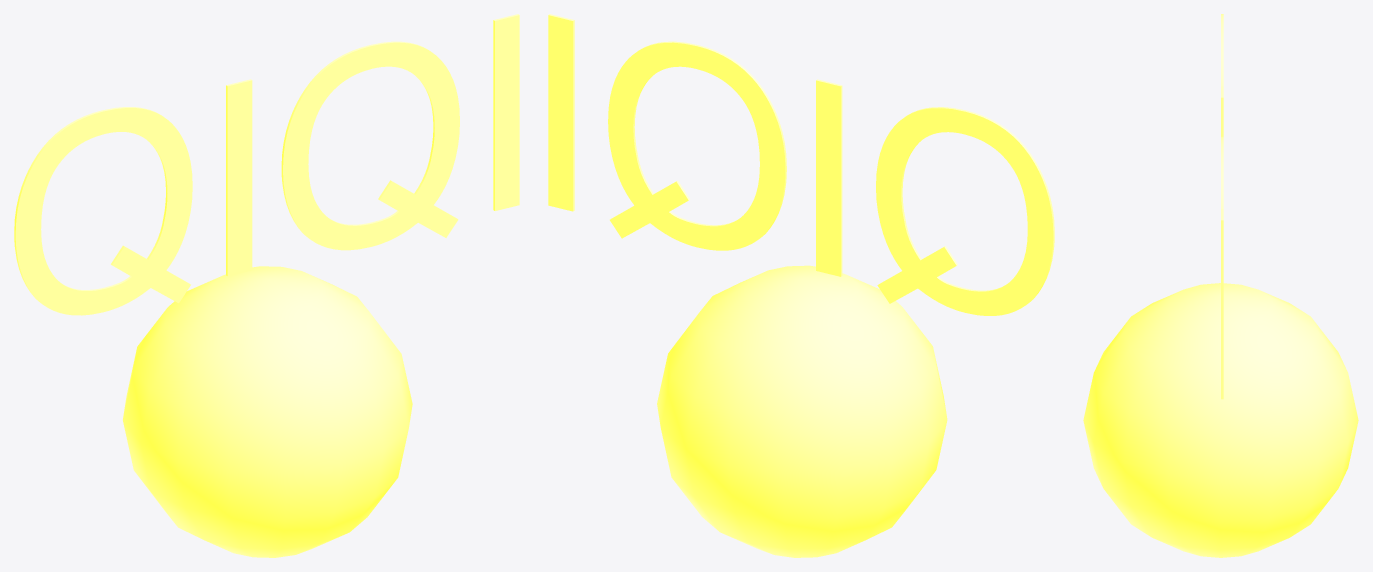
File: asset.gltf
The picture shows the model from 3 angles, left to right: view 1: azimuth 30°, elevation 25°; view 2: azimuth 150°, elevation 25°; view 3: azimuth 270°, elevation 25°; orthographic projection. The views are drawn at different scales.
Parts seen in each view (by area): view 1: Sphere, Q (×2), I (×2); view 2: Sphere, Q (×2), I (×2); view 3: Sphere, I.
Part boxes in pixels (x1,y1,x2,y2): Sphere: (123, 266, 412, 557); Q (×2): (14, 41, 459, 315); I (×2): (226, 14, 519, 276); Sphere: (657, 265, 947, 557); Q (×2): (608, 41, 1054, 315); I (×2): (548, 14, 842, 276); Sphere: (1083, 283, 1358, 557); I: (1221, 209, 1223, 399).
Bounding box in the file's own units: 39.81 × 35.71 × 20.
